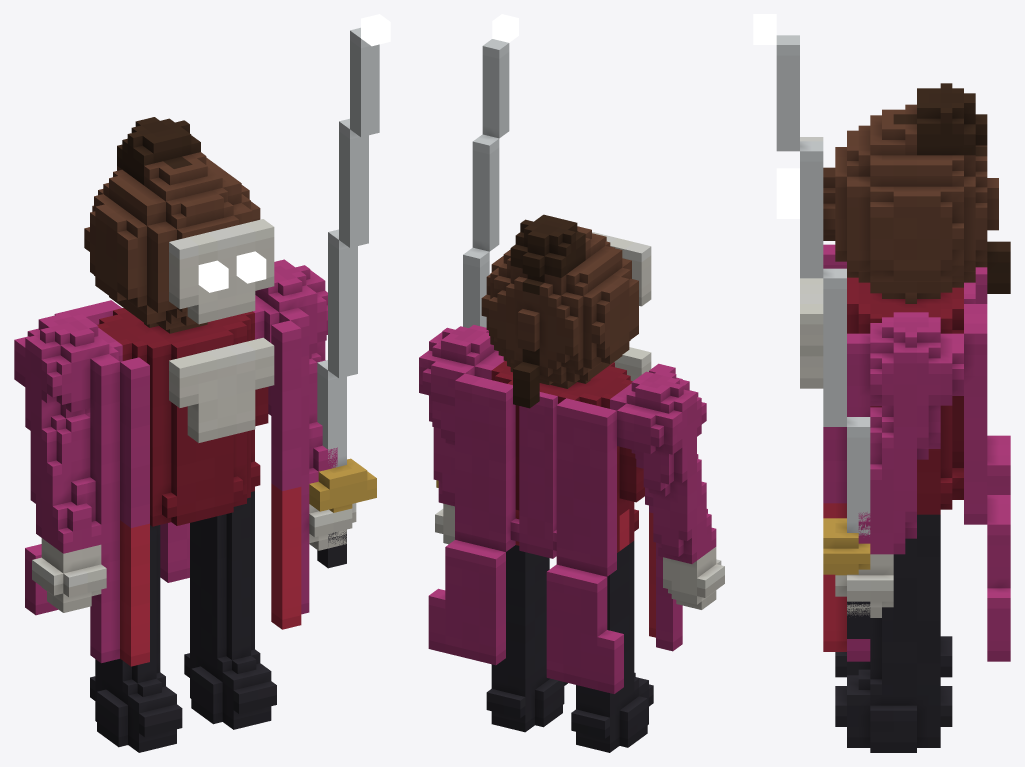
The model's file is u_lame__tidiane.glb.
3 views of the same model, side by side, from view 1: azimuth 30°, elevation 25°; view 2: azimuth 150°, elevation 25°; view 3: azimuth 270°, elevation 25° (orthographic). The views are drawn at different scales.
Parts seen in each view (by area): view 1: lame_body, lame_weapon, lame_glow, lame_weaponglow; view 2: lame_body, lame_weapon, lame_weaponglow; view 3: lame_body, lame_weapon, lame_glow, lame_weaponglow.
Part boxes in pixels (x1,y1,x2,y2): lame_body: (14, 117, 356, 752); lame_weapon: (309, 27, 379, 568); lame_glow: (198, 251, 266, 292); lame_weaponglow: (361, 14, 390, 46); lame_body: (419, 214, 724, 752); lame_weapon: (436, 39, 509, 487); lame_weaponglow: (492, 14, 518, 42); lame_body: (800, 83, 1010, 752); lame_weapon: (776, 35, 870, 638); lame_glow: (776, 168, 799, 218); lame_weaponglow: (753, 14, 776, 44).
Size of the model in its own units: 0.825 by 1.8 by 0.55.
